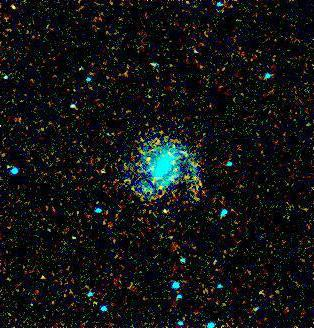star: (132, 146, 162, 176)
